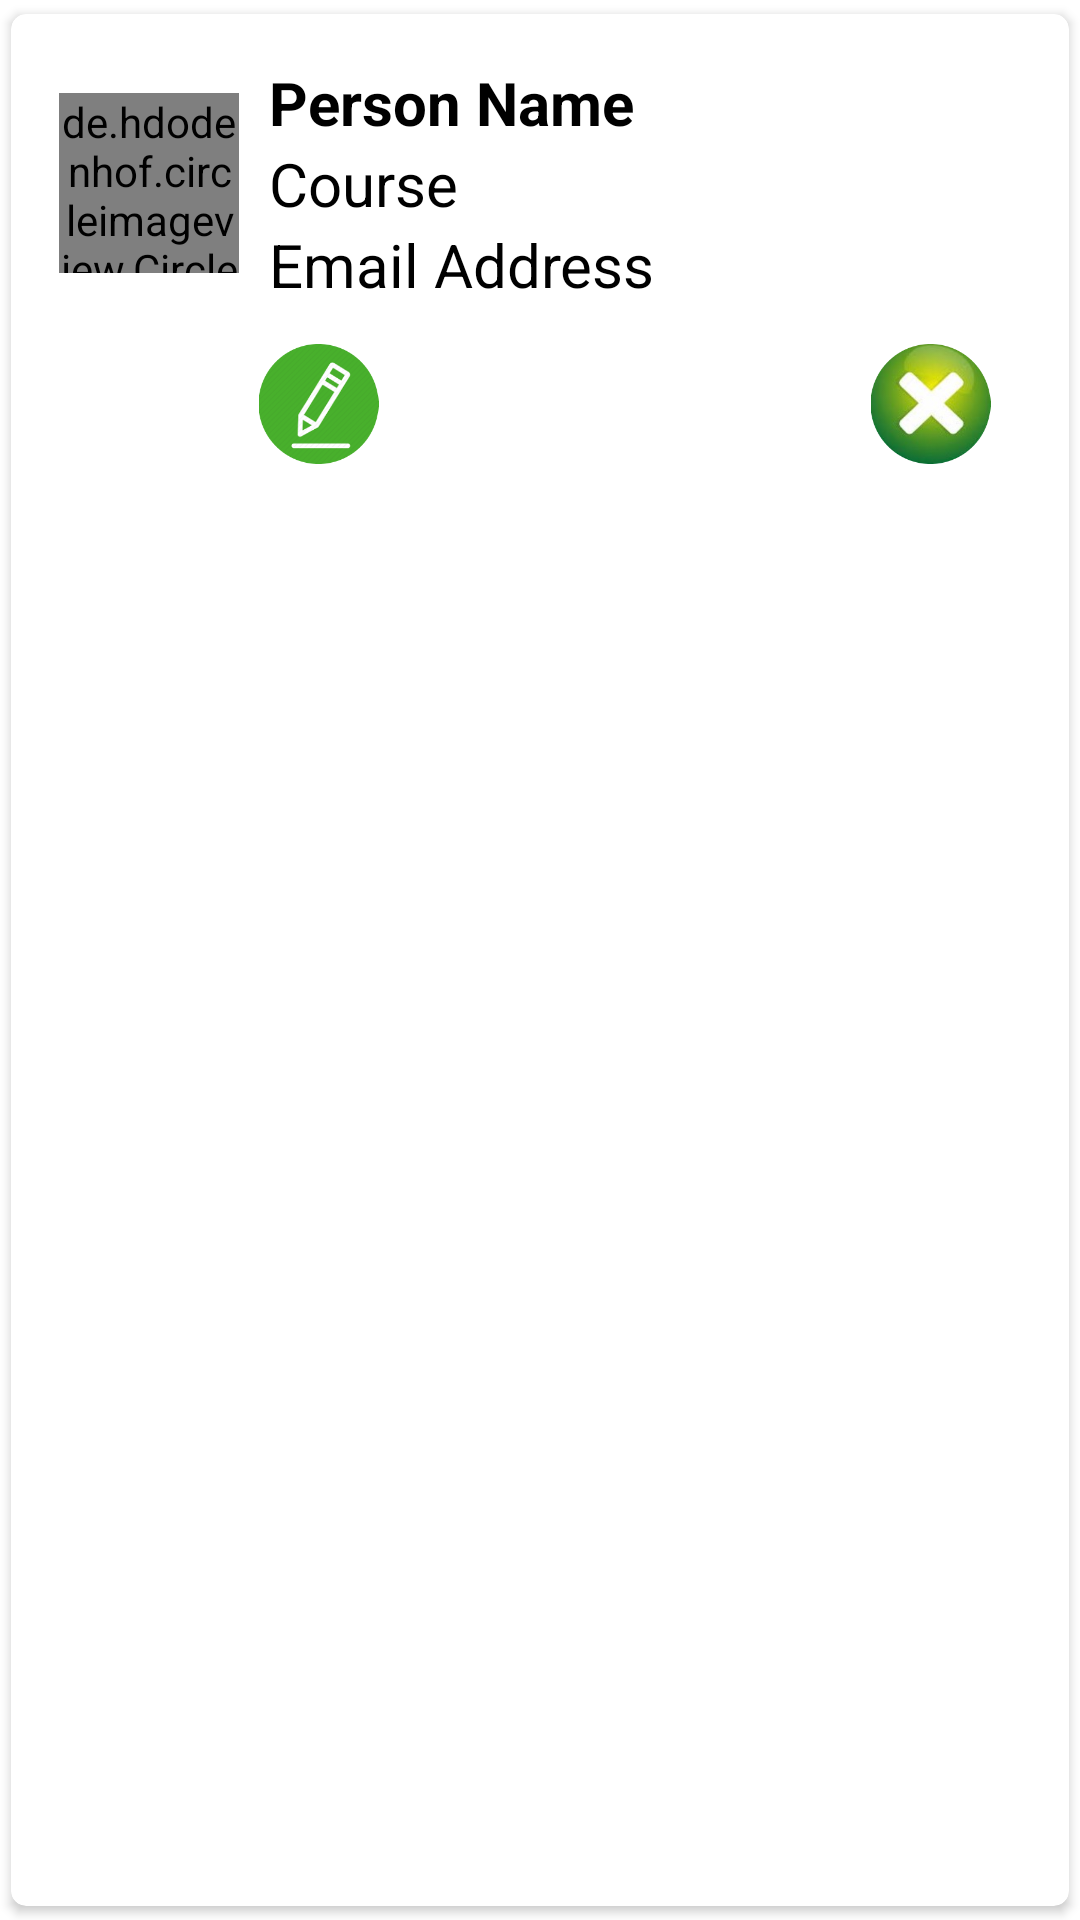

Named icons in this screenshot (1080px x 1920px) and their centers, point (x, y):
edit: point (319, 404)
